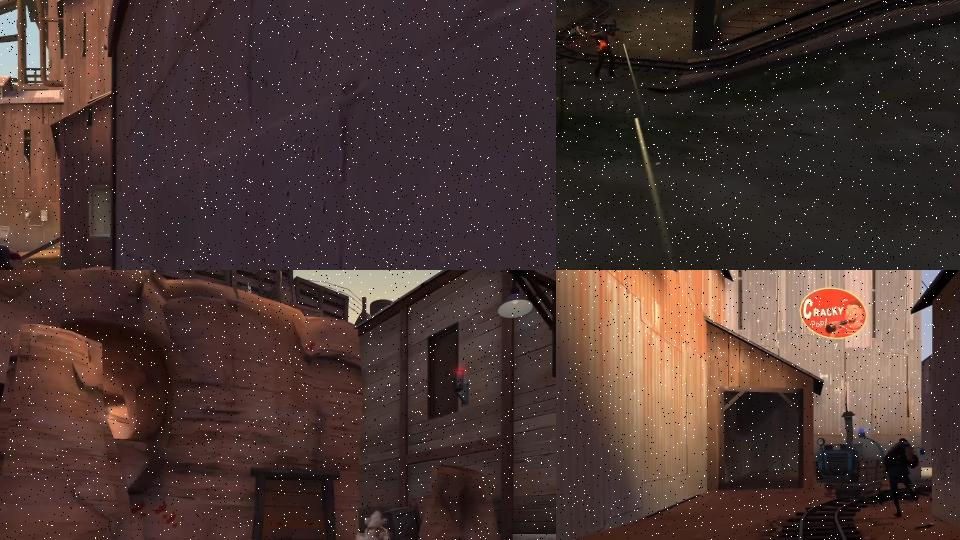Enemy: (882, 436, 927, 521), (589, 18, 632, 79), (355, 512, 391, 540)
